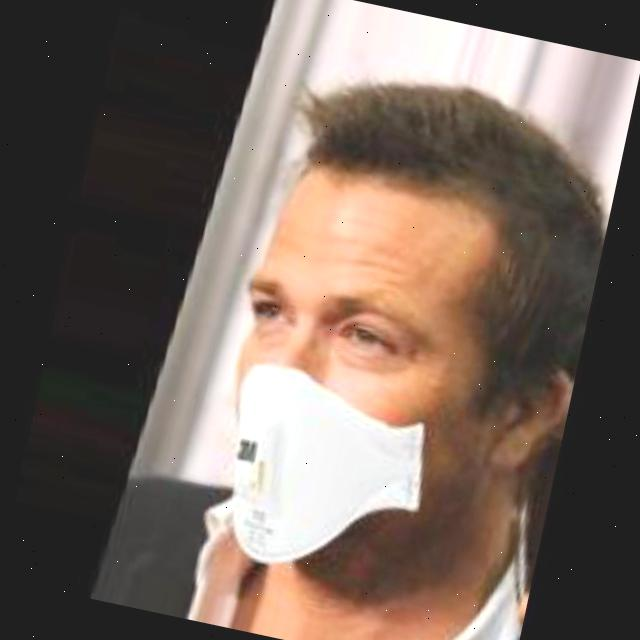suspicion: (172, 113, 551, 610)
